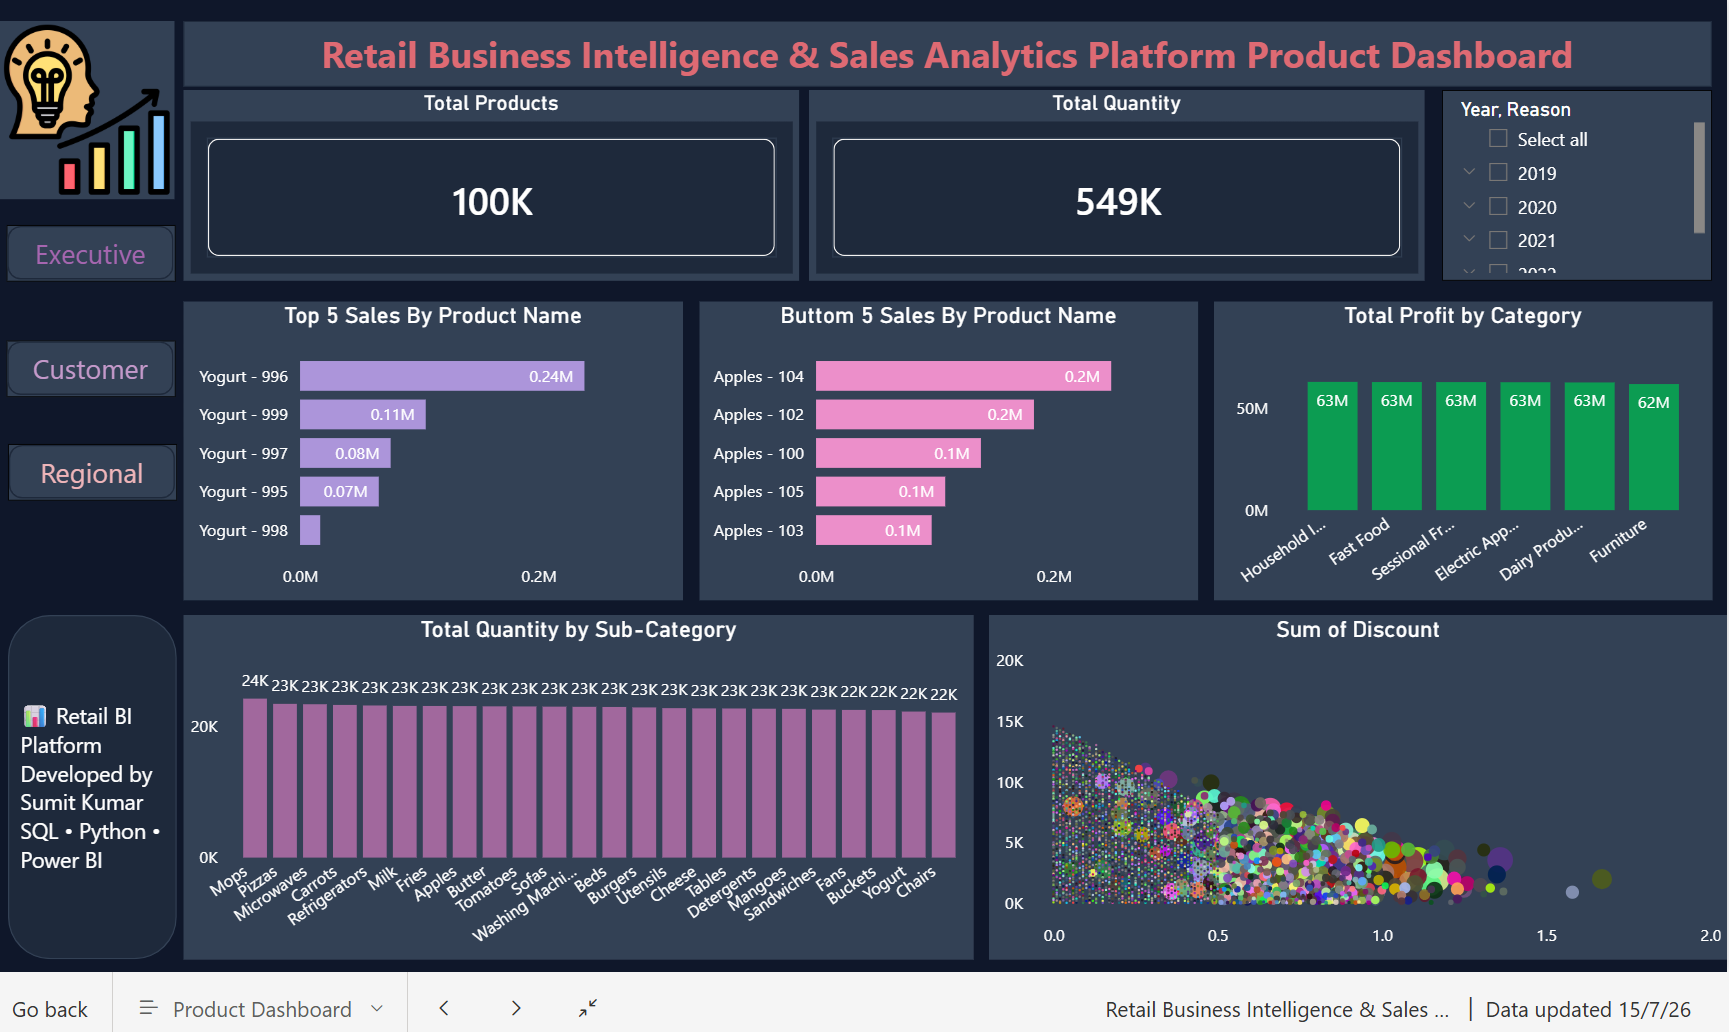

What the dashboard file says about the page in this screenshot:
{"tool":"powerbi","page":{"name":"Product Dashboard","canvas":[1280,720],"ordinal":2},"visuals":[{"type":"cardVisual","title":"Total Products","fields":{"Data":["cleaned_data.Total Products"]},"box":[136.6,66.7,456,141.5],"z":0},{"type":"cardVisual","title":"Total Quantity","fields":{"Data":["cleaned_data.Total Quantity"]},"box":[600.2,66.7,456,141.5],"z":3000},{"type":"slicer","fields":{"Values":["cleaned_data.Year","cleaned_data.Region"]},"box":[1068.6,66.7,200.1,141.5],"z":11000},{"type":"textbox","box":[136.7,15,1131.7,48.3],"z":13000},{"type":"shape","box":[5,166.7,125,41.7],"z":14000},{"type":"image","box":[0,15,130,131.7],"z":15000},{"type":"shape","box":[5,251.7,125,41.7],"z":16000},{"type":"shape","box":[6.7,328.3,125,41.7],"z":17000},{"type":"shape","box":[7,455,125,255],"z":18000},{"type":"barChart","title":"Top 5 Sales By Product Name","fields":{"Category":["cleaned_data.Product Name"],"Y":["cleaned_data.Total Sales"]},"box":[136.6,222.8,370,221.2],"z":18001},{"type":"barChart","title":"Buttom 5 Sales By Product Name","fields":{"Category":["cleaned_data.Product Name"],"Y":["cleaned_data.Total Sales"]},"box":[518.9,222.8,369.2,221.2],"z":18002},{"type":"columnChart","title":"Total Profit by Category","fields":{"Category":["cleaned_data.Category of Goods"],"Y":["cleaned_data.Total Profit"]},"box":[899.5,222.8,369.2,221.2],"z":18003},{"type":"clusteredColumnChart","title":"Total Quantity by Sub-Category","fields":{"Category":["cleaned_data.Sub-Category"],"Y":["Sum(cleaned_data.Quantity)"]},"box":[136.6,455.4,585.6,255.4],"z":18004},{"type":"scatterChart","title":"Sum of Discount","fields":{"X":["Sum(cleaned_data.Discount)"],"Y":["cleaned_data.Profit"],"Size":["Sum(cleaned_data.Sales)"]},"box":[733.6,455.4,547,255.4],"z":18005}]}

Visuals, with their boxes on the page's 1280x720 design canvas (x1, y1, x2, y2). These are canvas units, not pixel positions in the 1729x1032 screenshot, which may show the page scaled, cropped or inside an application window:
"Total Products" cardVisual: select_region(137, 67, 593, 208)
"Total Quantity" cardVisual: select_region(600, 67, 1056, 208)
slicer - cleaned_data.Year x cleaned_data.Region: select_region(1069, 67, 1269, 208)
textbox: select_region(137, 15, 1268, 63)
shape: select_region(5, 167, 130, 208)
image: select_region(0, 15, 130, 147)
shape: select_region(5, 252, 130, 293)
shape: select_region(7, 328, 132, 370)
shape: select_region(7, 455, 132, 710)
"Top 5 Sales By Product Name" barChart: select_region(137, 223, 507, 444)
"Buttom 5 Sales By Product Name" barChart: select_region(519, 223, 888, 444)
"Total Profit by Category" columnChart: select_region(900, 223, 1269, 444)
"Total Quantity by Sub-Category" clusteredColumnChart: select_region(137, 455, 722, 711)
"Sum of Discount" scatterChart: select_region(734, 455, 1281, 711)
